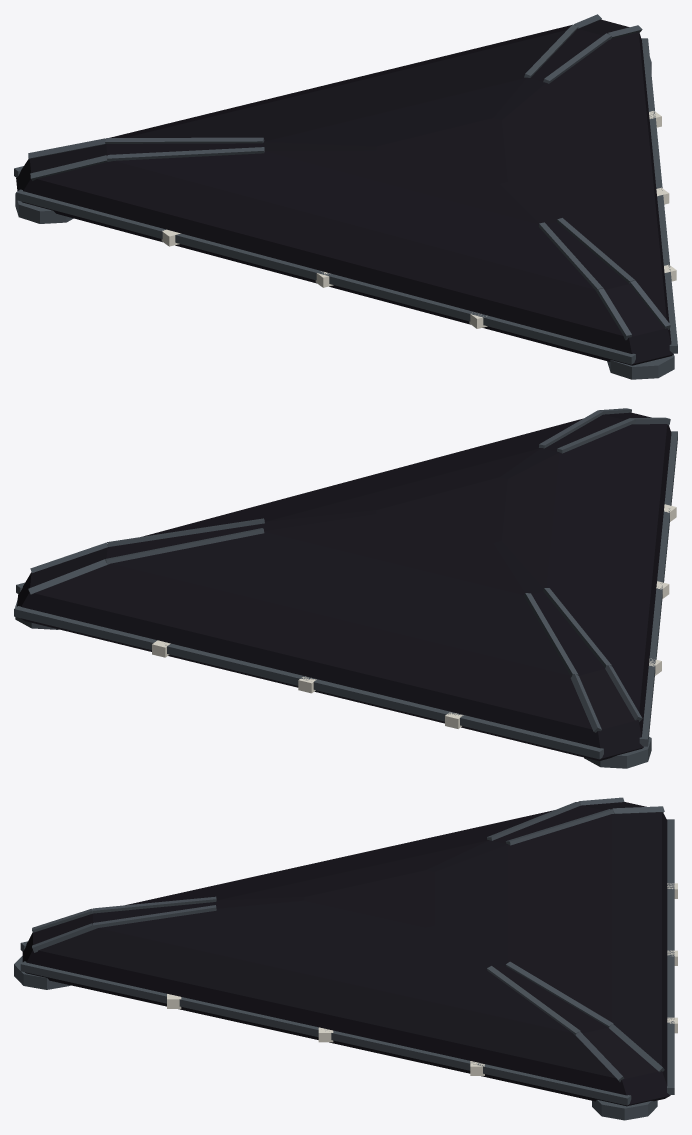
The model's file is SH_Triangle_01.glb.
3 views of the same model, one above another, from view 1: azimuth 30°, elevation 25°; view 2: azimuth 150°, elevation 25°; view 3: azimuth 270°, elevation 25° (orthographic). The views are drawn at different scales.
Visible parts, largest first — view 1: SH_Triangle_01; view 2: SH_Triangle_01; view 3: SH_Triangle_01.
Boxes of the visible parts, x1,y1,x2,y2 form: SH_Triangle_01: (14, 14, 677, 379); SH_Triangle_01: (14, 408, 677, 768); SH_Triangle_01: (14, 797, 677, 1120).
Bounding box in the file's own units: 10.45 × 1.35 × 10.11.
Materials: 1 (1 with a texture image).
